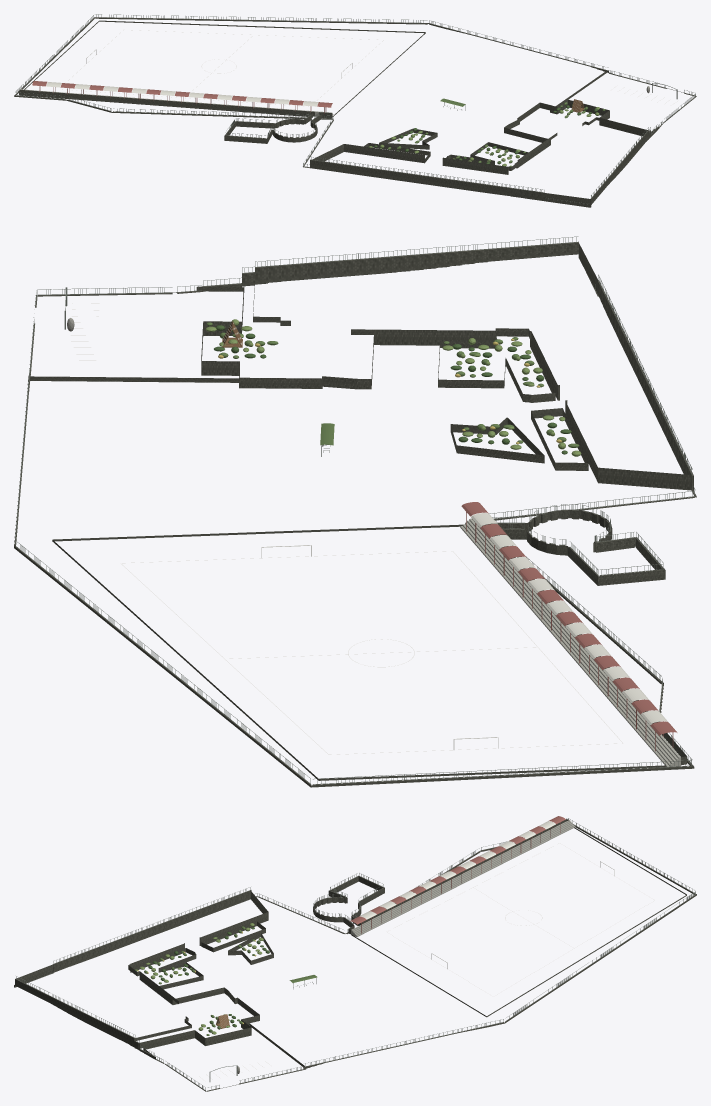
3 renders of one model, top to bottom at view 1: azimuth 30°, elevation 25°; view 2: azimuth 150°, elevation 25°; view 3: azimuth 270°, elevation 25°, orthographic. The views are drawn at different scales.
Visible parts, largest first — view 1: prop_terrace-risers, prop_boundary-fence, prop_retaining-walls, prop_stand-open-roof, prop_garden-shrubs, prop_field-stand; view 2: prop_terrace-risers, prop_retaining-walls, prop_boundary-fence, prop_stand-open-roof, prop_field-stand, prop_garden-shrubs, prop_field-lines; view 3: prop_terrace-risers, prop_retaining-walls, prop_boundary-fence, prop_field-stand, prop_stand-open-roof, prop_garden-shrubs.
Boxes of the visible parts, x1,y1,x2,y2 form: prop_terrace-risers: [14, 17, 696, 207]; prop_boundary-fence: [15, 14, 695, 204]; prop_retaining-walls: [14, 17, 695, 207]; prop_stand-open-roof: [32, 81, 332, 113]; prop_garden-shrubs: [368, 102, 605, 166]; prop_field-stand: [20, 89, 333, 116]; prop_terrace-risers: [14, 242, 696, 787]; prop_retaining-walls: [14, 242, 696, 785]; prop_boundary-fence: [15, 236, 695, 784]; prop_stand-open-roof: [461, 502, 677, 751]; prop_field-stand: [460, 518, 680, 767]; prop_garden-shrubs: [205, 319, 581, 456]; prop_field-lines: [121, 551, 622, 754]; prop_terrace-risers: [14, 819, 696, 1091]; prop_retaining-walls: [15, 824, 695, 1091]; prop_boundary-fence: [16, 818, 695, 1090]; prop_field-stand: [351, 820, 575, 936]; prop_stand-open-roof: [350, 816, 565, 933]; prop_garden-shrubs: [135, 923, 269, 1035].
Bounding box in the file's own units: 205 × 6.75 × 220.
Materials: 12 (1 with a texture image).
